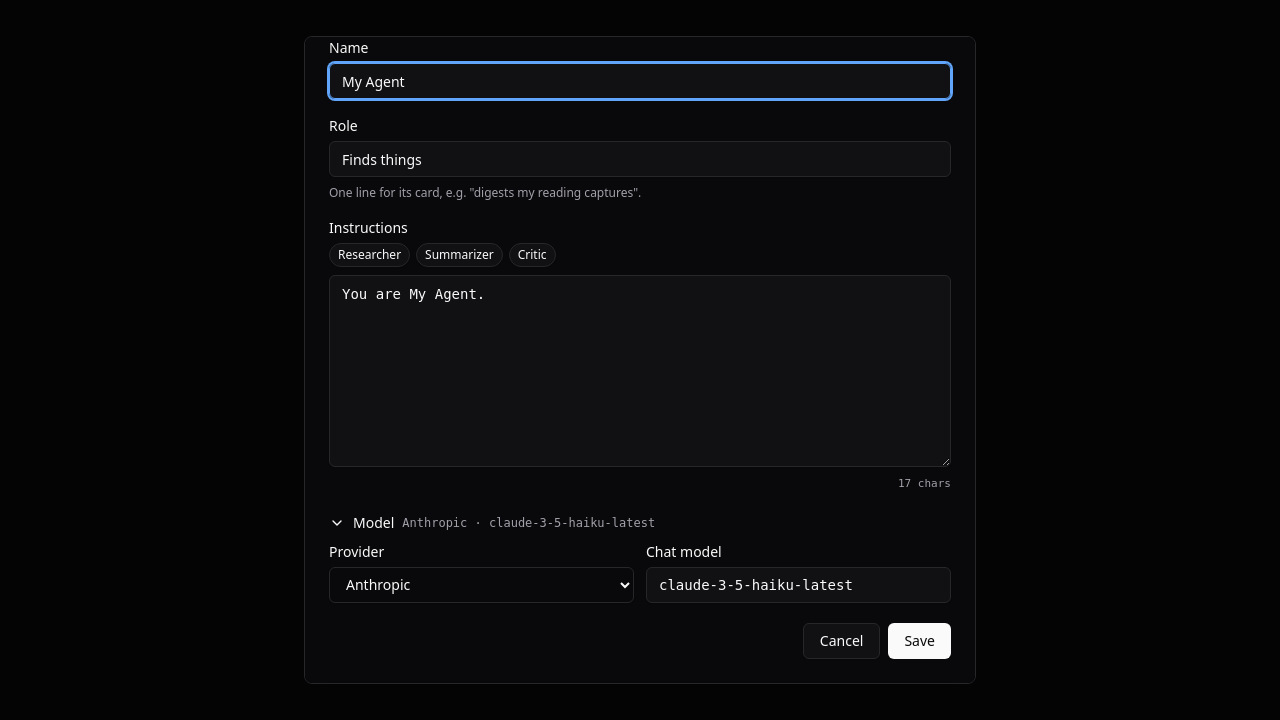
AddAgentModal edit flow › shows a server error inline and stays open
The width and height of the screenshot is (1280, 720).
(page scrolled)
Click the button "Save": x=920, y=641 888,623 -> 951,659
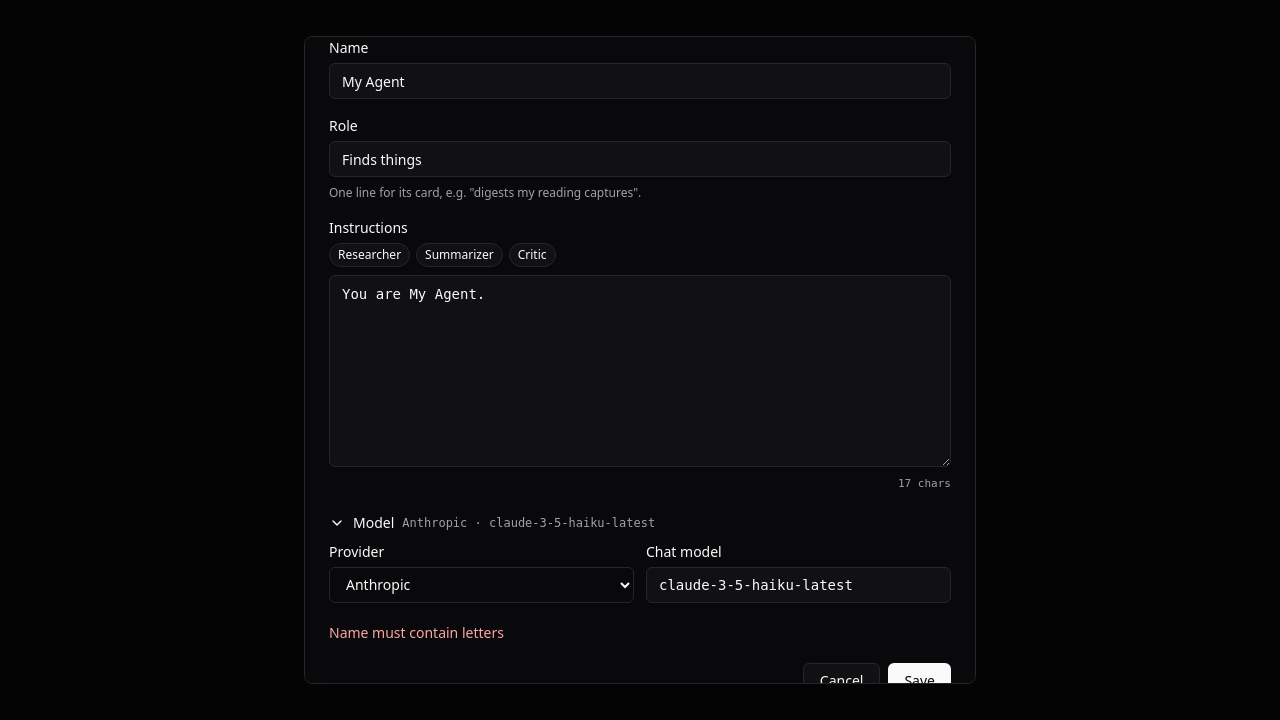
Result: the text "Name must contain letters" is shown at 329,623 -> 504,642
